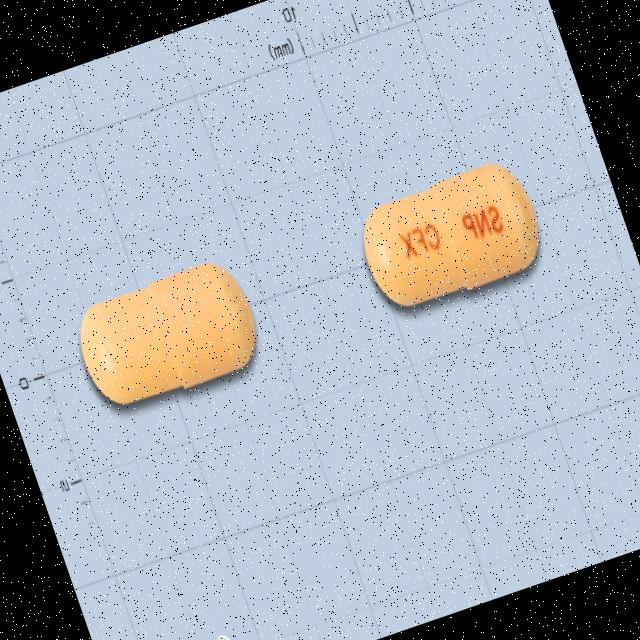A Progen Cefixime Cap: (61, 248, 270, 422), (346, 150, 554, 322)
